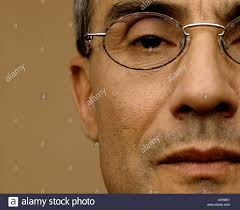Glasses: (80, 13, 240, 77)
